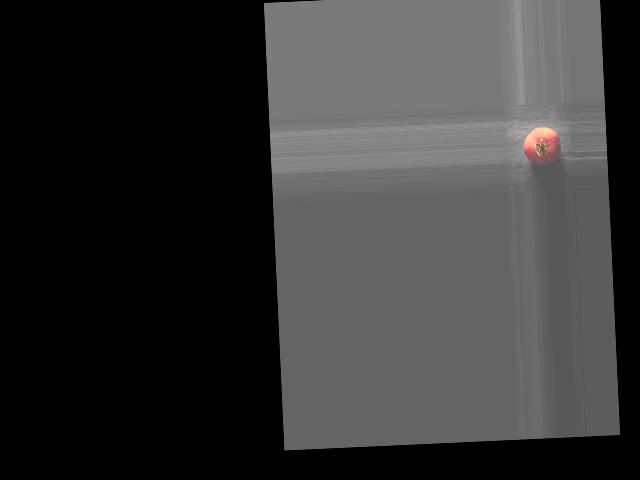tomato: (522, 126, 561, 165)
